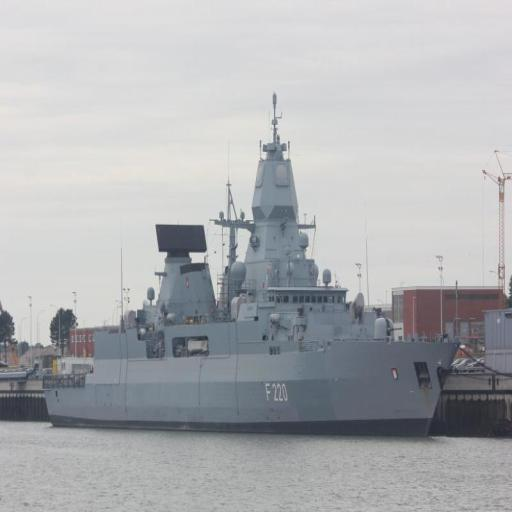Fragata: (38, 84, 466, 445)
